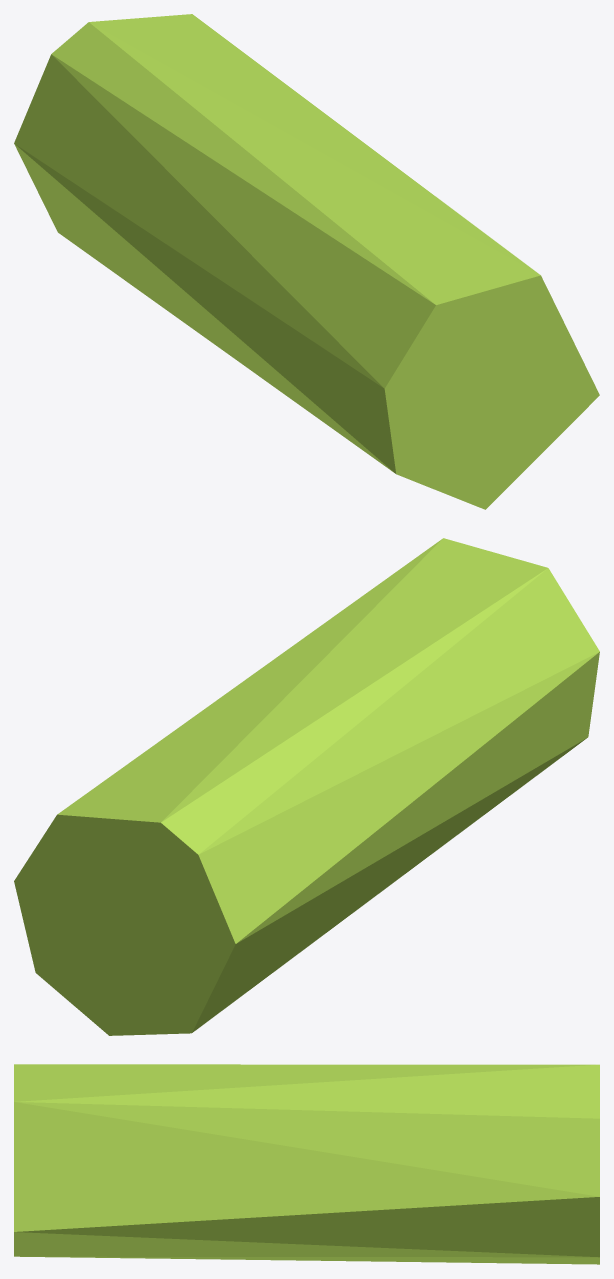
Rendered from niryo_Link_2_coll_2.dae.
3 views of the same model, one above another, from view 1: azimuth 30°, elevation 25°; view 2: azimuth 150°, elevation 25°; view 3: azimuth 270°, elevation 25° (orthographic). The views are drawn at different scales.
Visible parts, largest first — view 1: Node_000001B04DB54E40; view 2: Node_000001B04DB54E40; view 3: Node_000001B04DB54E40.
Part boxes in pixels (x1,y1,x2,y2): Node_000001B04DB54E40: [14, 14, 599, 509]; Node_000001B04DB54E40: [14, 538, 599, 1035]; Node_000001B04DB54E40: [14, 1064, 599, 1264].
Size of the model in its own units: 0.0348 by 0.034 by 0.1.
